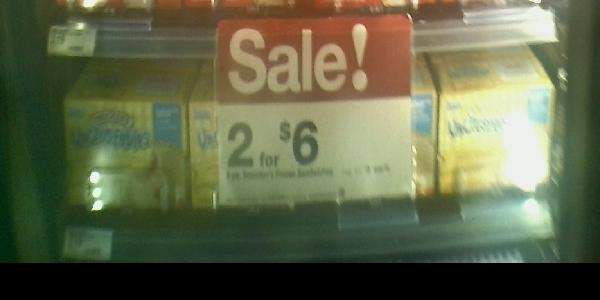icecream: (190, 93, 436, 211), (61, 89, 189, 215), (437, 80, 556, 201)
